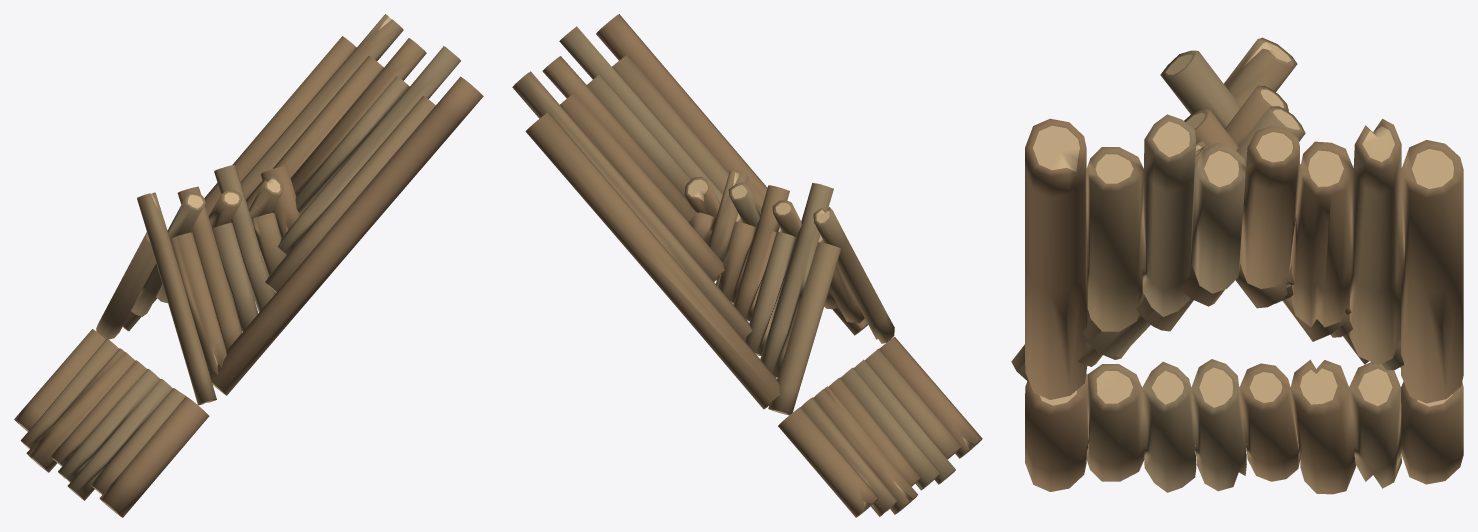
File: rpgpp_ag_roof_01c_9x4x3_half.fbx
3 renders of one model, left to right at view 1: azimuth 30°, elevation 25°; view 2: azimuth 150°, elevation 25°; view 3: azimuth 270°, elevation 25°, orthographic. The views are drawn at different scales.
Visible parts, largest first — view 1: rpgpp_ag_roof_01c_9x4x3_half; view 2: rpgpp_ag_roof_01c_9x4x3_half; view 3: rpgpp_ag_roof_01c_9x4x3_half.
Part boxes in pixels (box(x1,y1,x2,y2)): rpgpp_ag_roof_01c_9x4x3_half: box(14, 14, 483, 517); rpgpp_ag_roof_01c_9x4x3_half: box(512, 14, 982, 517); rpgpp_ag_roof_01c_9x4x3_half: box(1011, 37, 1463, 494).
Size of the model in its own units: 6.18 by 5.52 by 3.09.
